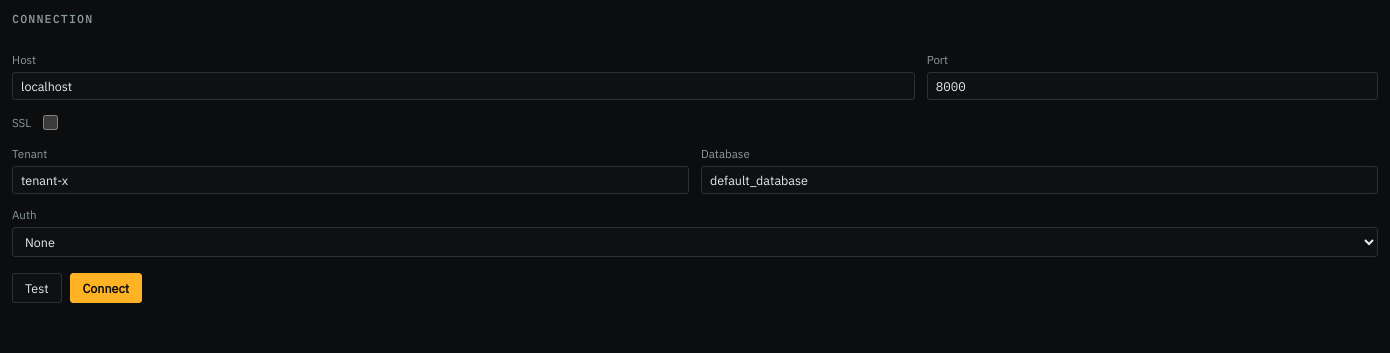
Test: Test button shows a result
Click the button "Test" at point(37, 288), box [12,273,62,303]
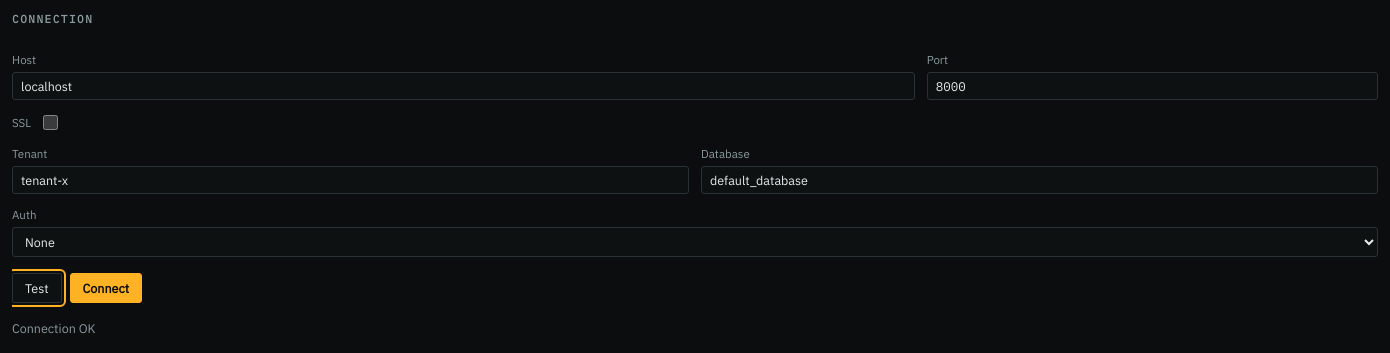
Expected: the text "Connection OK" is shown, [12,320,96,336]
